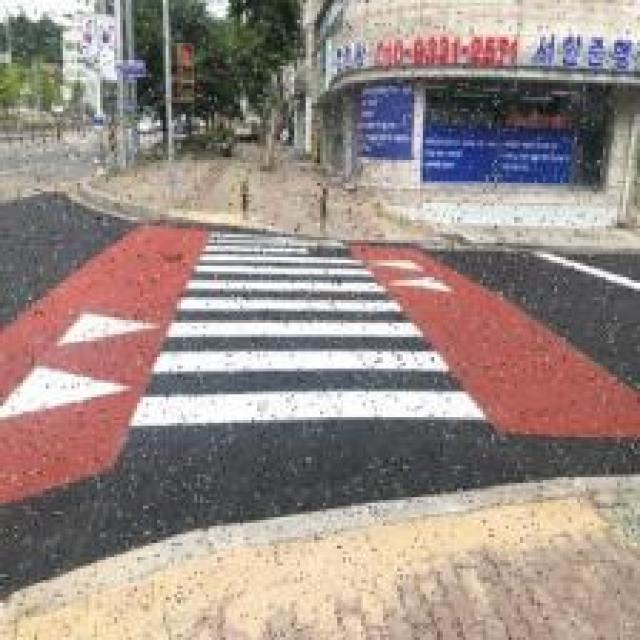crosswalk: (125, 225, 492, 459)
